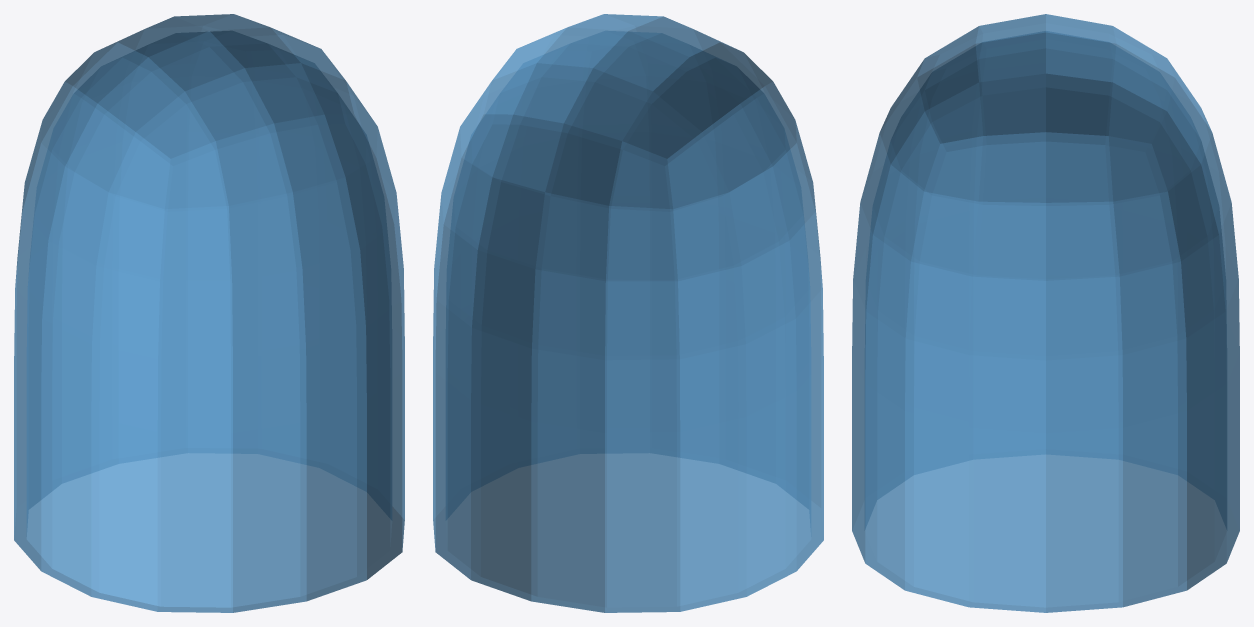
Rendered from Glass Cover.fbx.
The picture shows the model from 3 angles, left to right: view 1: azimuth 30°, elevation 25°; view 2: azimuth 150°, elevation 25°; view 3: azimuth 270°, elevation 25°; orthographic projection.
Visible parts, largest first — view 1: Node 0; view 2: Node 0; view 3: Node 0.
Part boxes in pixels (x1=…): Node 0: x1=14, y1=14, x2=404, y2=612; Node 0: x1=433, y1=14, x2=823, y2=612; Node 0: x1=852, y1=14, x2=1239, y2=612.
Size of the model in its own units: 0.268 by 0.3801 by 0.268.
